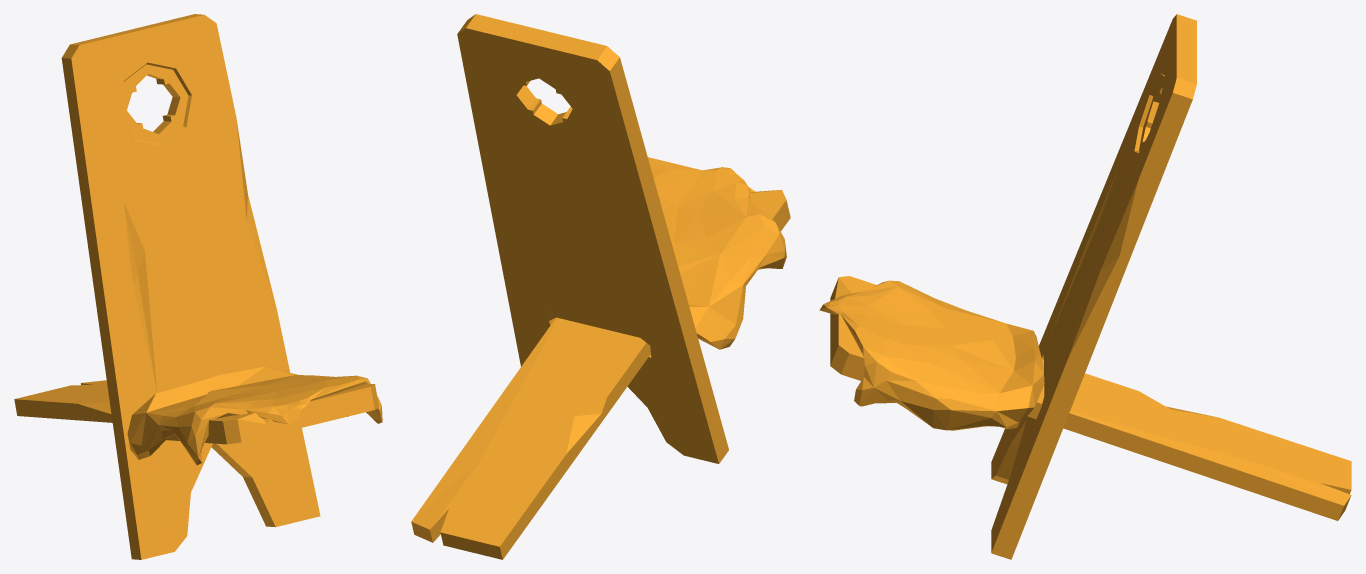
The model's file is SM_Chair_Folding_C_Fur_Fantasy.fbx.
3 views of the same model, side by side, from view 1: azimuth 30°, elevation 25°; view 2: azimuth 150°, elevation 25°; view 3: azimuth 270°, elevation 25° (orthographic). The views are drawn at different scales.
Parts seen in each view (by area): view 1: chair-folding-c-fur-fantasy; view 2: chair-folding-c-fur-fantasy; view 3: chair-folding-c-fur-fantasy.
Boxes of the visible parts, x1,y1,x2,y2 form: chair-folding-c-fur-fantasy: [14, 14, 382, 559]; chair-folding-c-fur-fantasy: [411, 14, 790, 559]; chair-folding-c-fur-fantasy: [819, 14, 1351, 559].
Bounding box in the file's own units: 0.5354 × 1.2 × 1.23.
